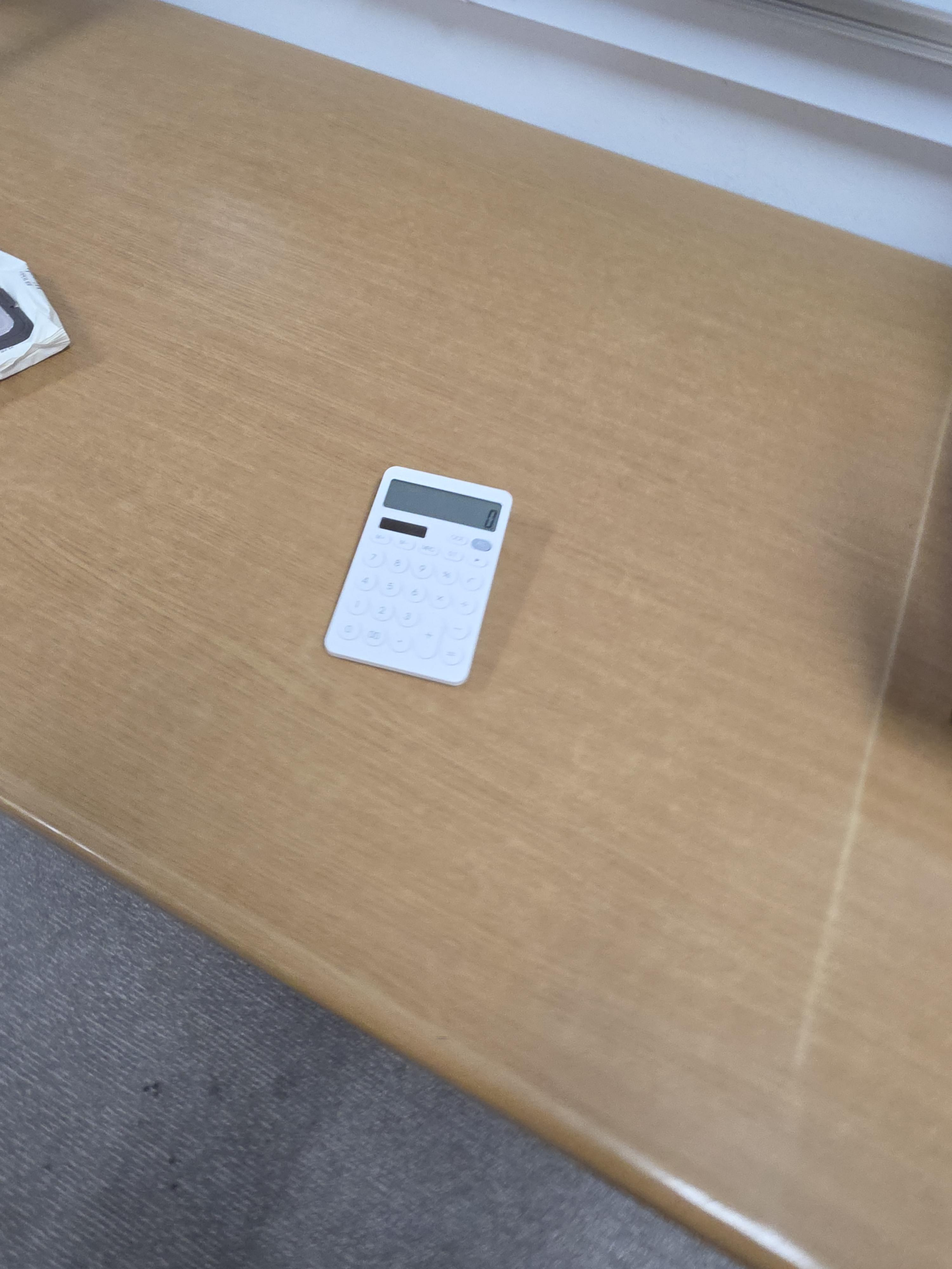calculator: (324, 465, 513, 687)
tissue: (0, 250, 71, 381)
